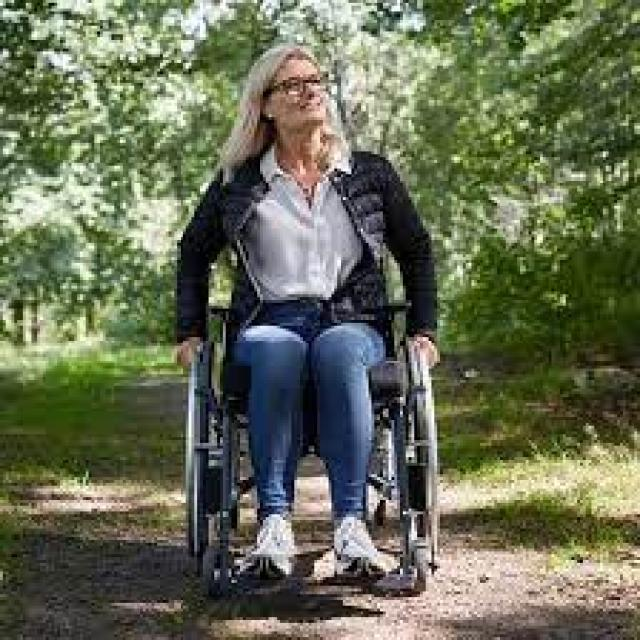wheelchairs: (152, 291, 472, 606)
